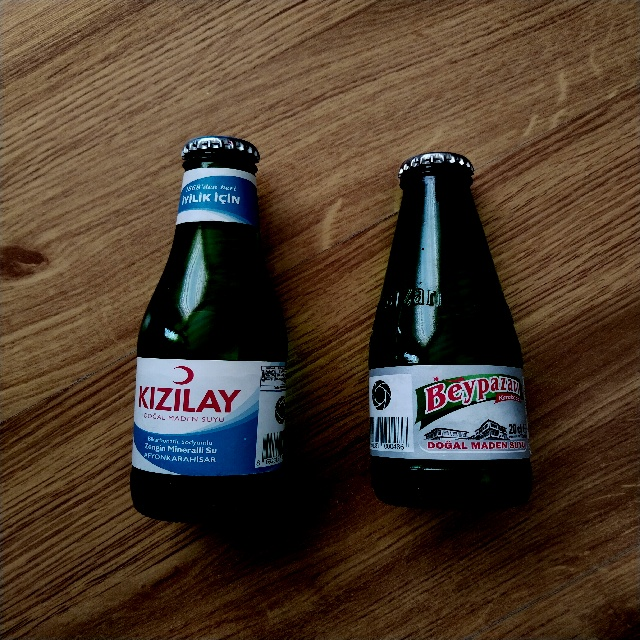beypazari_maden_suyu: (369, 153, 530, 505)
kizilay_maden_suyu: (130, 137, 287, 520)
